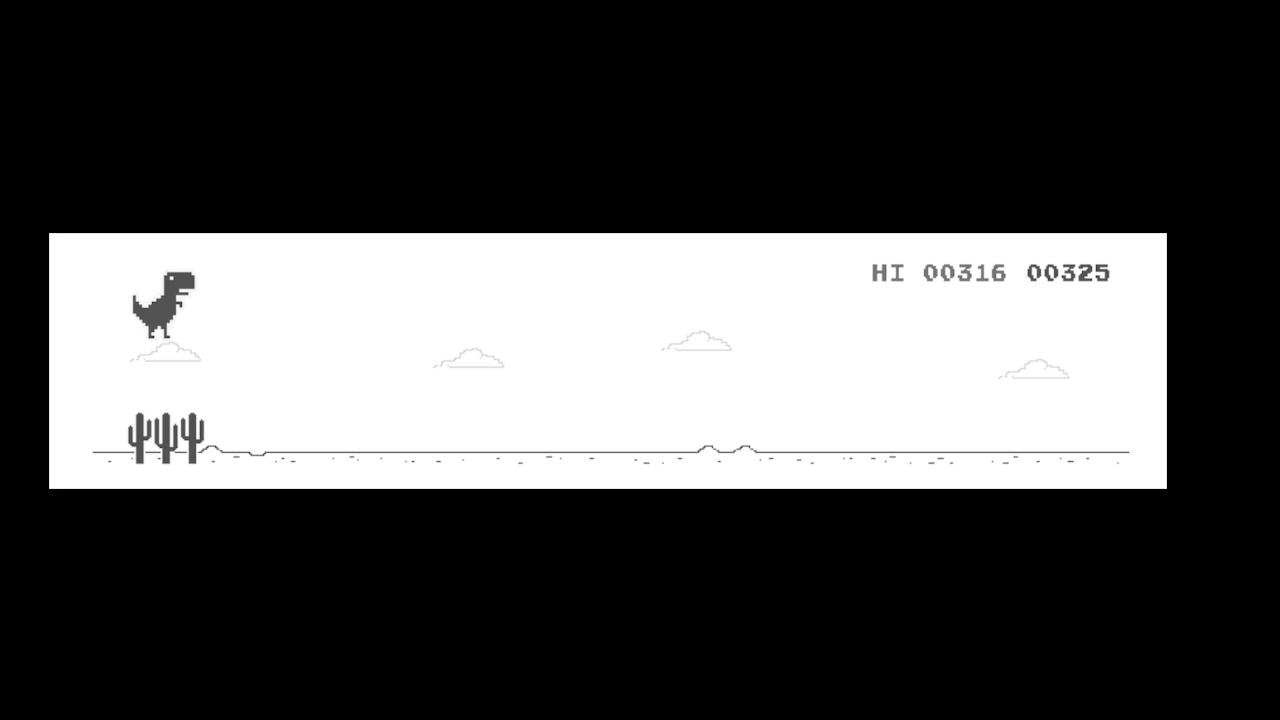dino: (129, 269, 198, 345)
small2: (126, 408, 203, 467)
